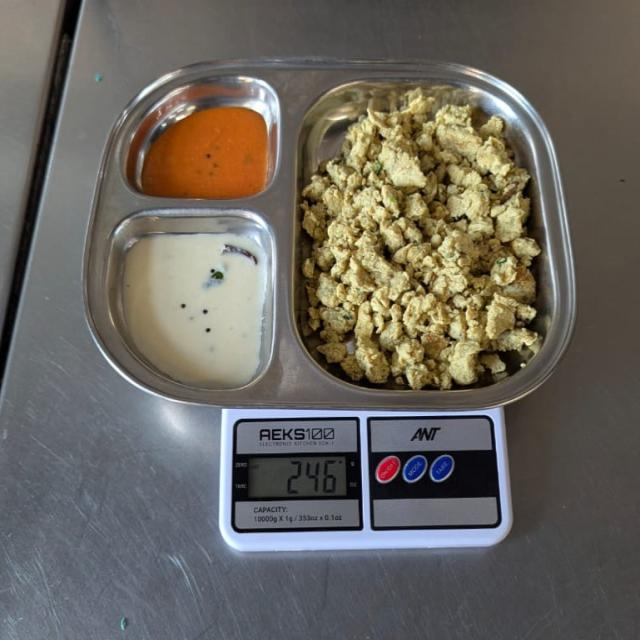Chutney: (132, 240, 262, 372), (156, 116, 267, 199)
Egg Bhurji: (324, 111, 518, 376)
